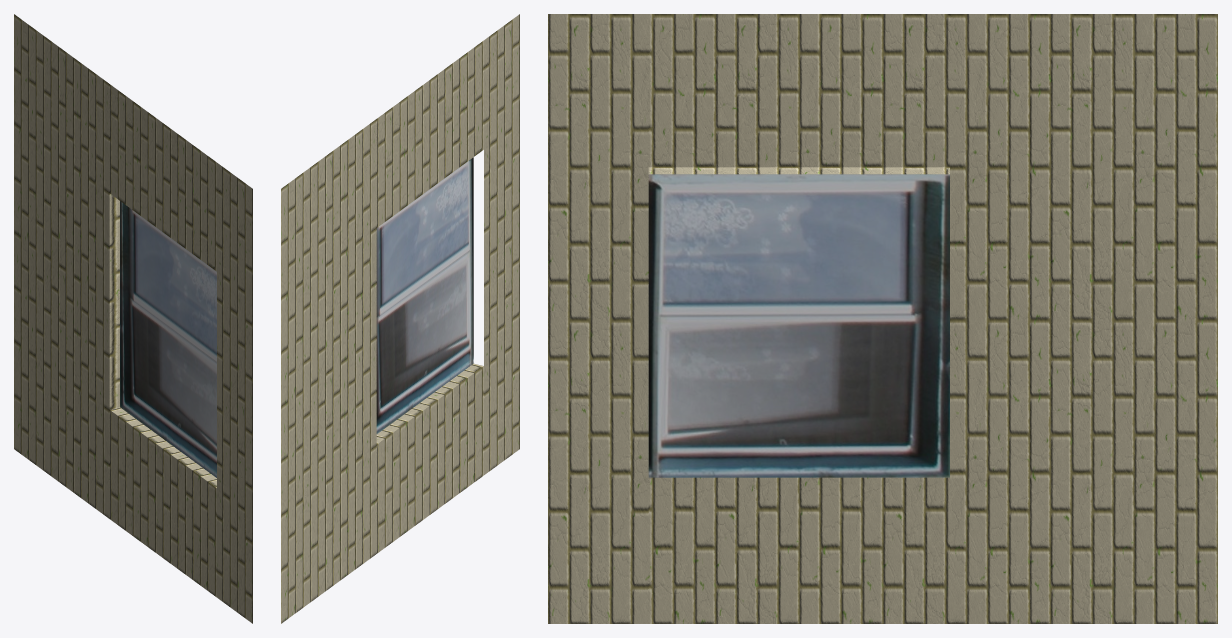
Rendered from window_1m.obj.
The picture shows the model from 3 angles, left to right: view 1: azimuth 30°, elevation 25°; view 2: azimuth 150°, elevation 25°; view 3: azimuth 270°, elevation 25°; orthographic projection. The views are drawn at different scales.
Visible parts, largest first — view 1: Plane001, Plane002; view 2: Plane001, Plane002; view 3: Plane001, Plane002.
Part boxes in pixels (box(x1,y1,x2,y2)): Plane001: box(14, 14, 252, 623); Plane002: box(120, 201, 216, 477); Plane001: box(281, 14, 519, 623); Plane002: box(376, 157, 473, 433); Plane001: box(548, 14, 1217, 623); Plane002: box(648, 174, 949, 477).
Bounding box in the file's own units: 5 × 201 × 200.
Materials: 2 (2 with a texture image).
